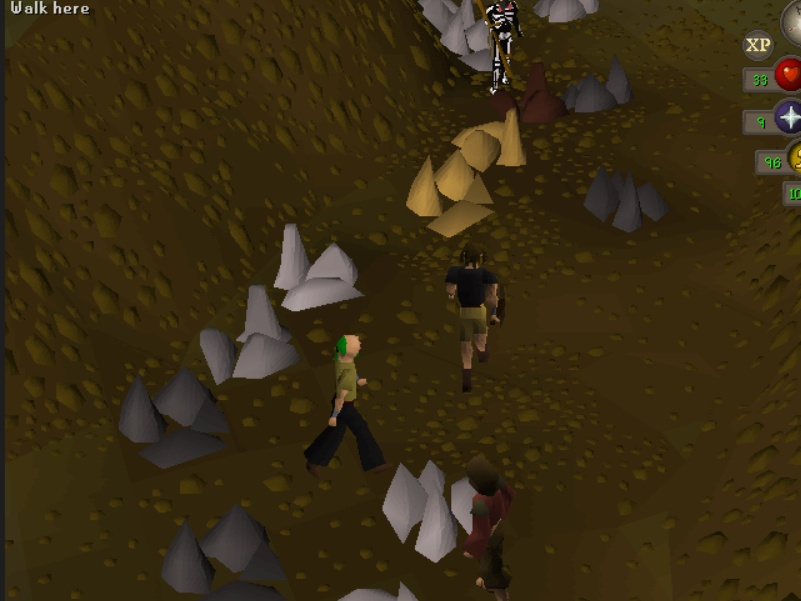clay: (403, 145, 496, 239), (445, 105, 531, 173)
iron: (491, 60, 576, 124)
silver: (381, 456, 483, 564), (268, 220, 368, 311)
tin: (193, 283, 306, 387), (440, 11, 500, 73), (525, 1, 608, 24), (419, 1, 477, 28)
